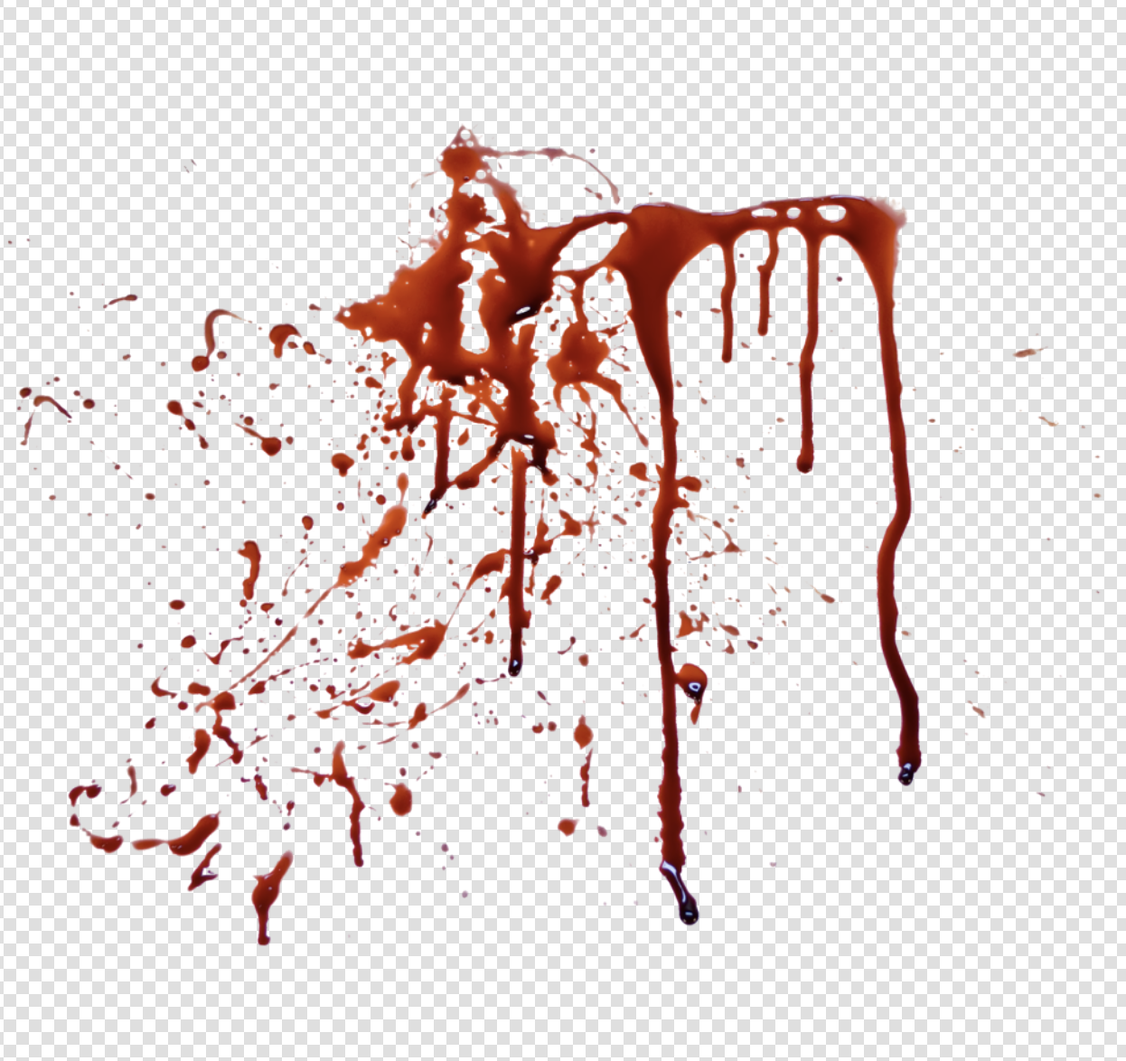blood_26.png: (5, 117, 1018, 953)
